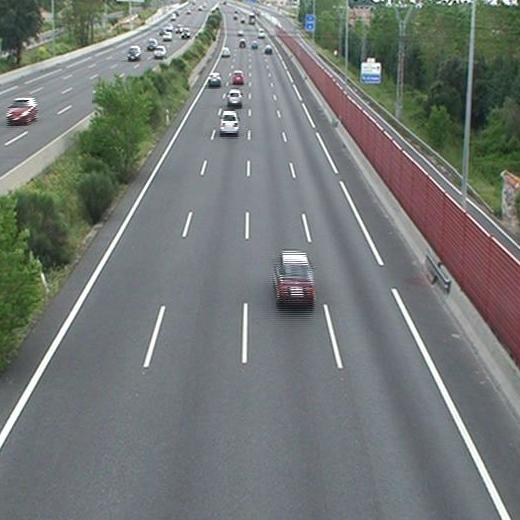car: (274, 251, 313, 303), (220, 111, 239, 133), (226, 90, 242, 106), (208, 74, 221, 85), (232, 71, 243, 83), (221, 47, 229, 56), (237, 40, 245, 48), (263, 46, 271, 53), (250, 41, 256, 48)
